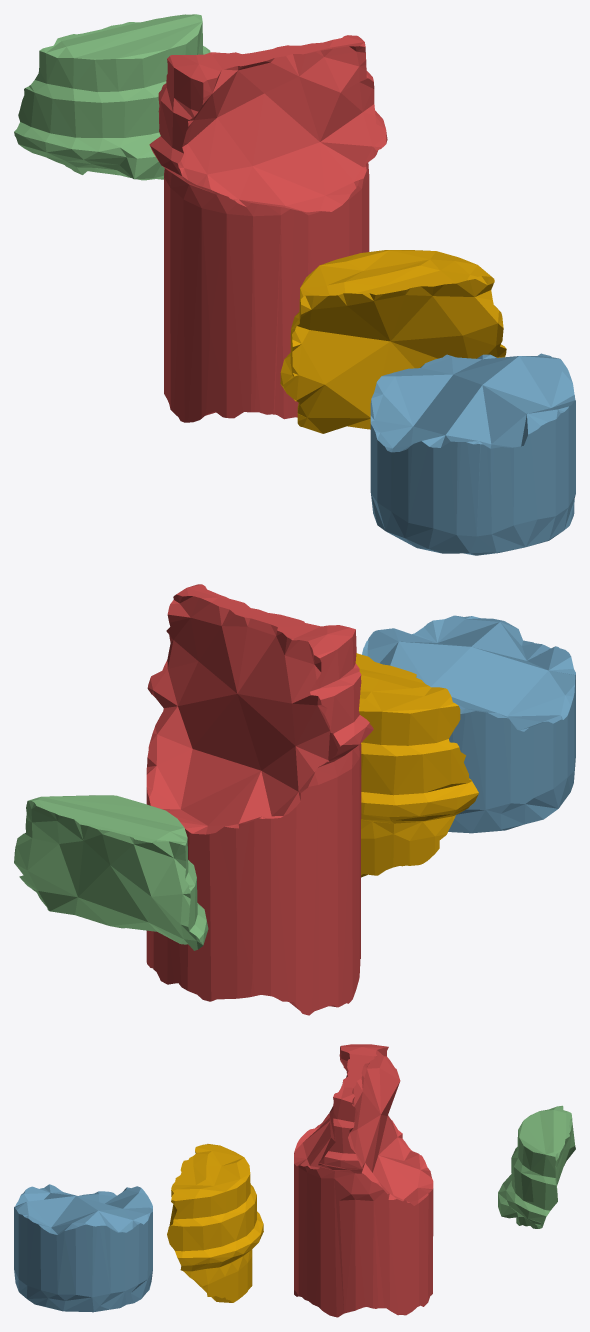
The model's file is mode_3_4pcs_transformed.glb.
The picture shows the model from 3 angles, top to bottom: view 1: azimuth 30°, elevation 25°; view 2: azimuth 150°, elevation 25°; view 3: azimuth 270°, elevation 25°; orthographic projection. The views are drawn at different scales.
Parts seen in each view (by area): view 1: piece_1.obj, piece_2.obj, piece_0.obj, piece_3.obj; view 2: piece_1.obj, piece_2.obj, piece_3.obj, piece_0.obj; view 3: piece_1.obj, piece_2.obj, piece_0.obj, piece_3.obj.
Part boxes in pixels (x1=…): piece_1.obj: x1=149, y1=35, x2=387, y2=422; piece_2.obj: x1=370, y1=353, x2=575, y2=555; piece_0.obj: x1=280, y1=250, x2=506, y2=433; piece_3.obj: x1=14, y1=14, x2=210, y2=180; piece_1.obj: x1=146, y1=584, x2=373, y2=1015; piece_2.obj: x1=362, y1=615, x2=575, y2=833; piece_3.obj: x1=14, y1=795, x2=208, y2=950; piece_0.obj: x1=355, y1=653, x2=478, y2=877; piece_1.obj: x1=294, y1=1044, x2=433, y2=1317; piece_2.obj: x1=14, y1=1184, x2=152, y2=1312; piece_0.obj: x1=167, y1=1144, x2=263, y2=1302; piece_3.obj: x1=498, y1=1105, x2=575, y2=1228.
Bounding box in the file's own units: 0.4915 × 0.7965 × 1.7.
